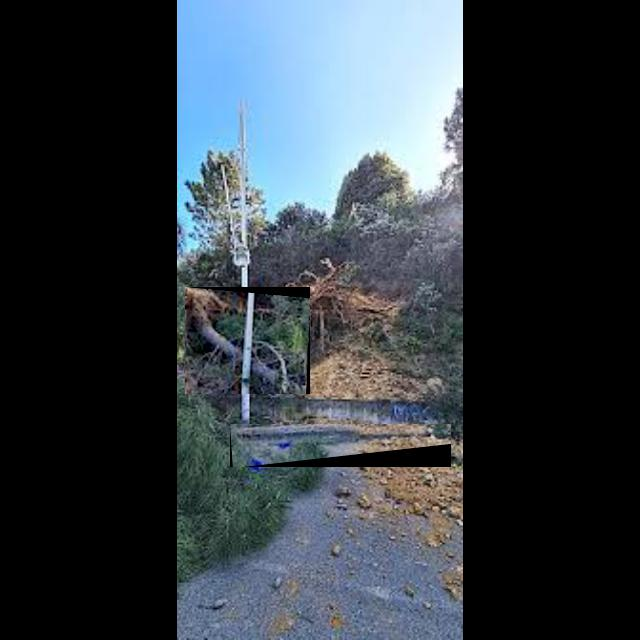Fallen Tree: (185, 287, 311, 395), (230, 424, 452, 468)
